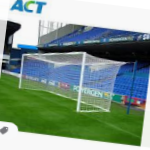goals: (18, 51, 121, 114)
